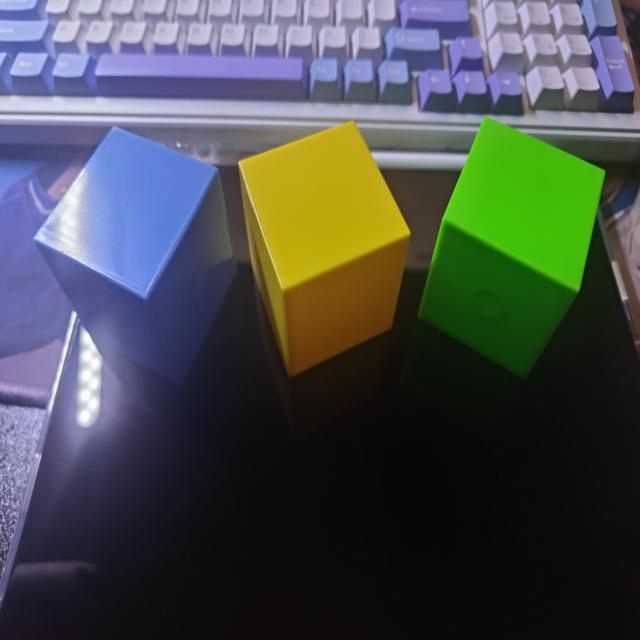blue: (31, 127, 239, 395)
green: (417, 114, 609, 388)
yellow: (240, 117, 412, 378)
